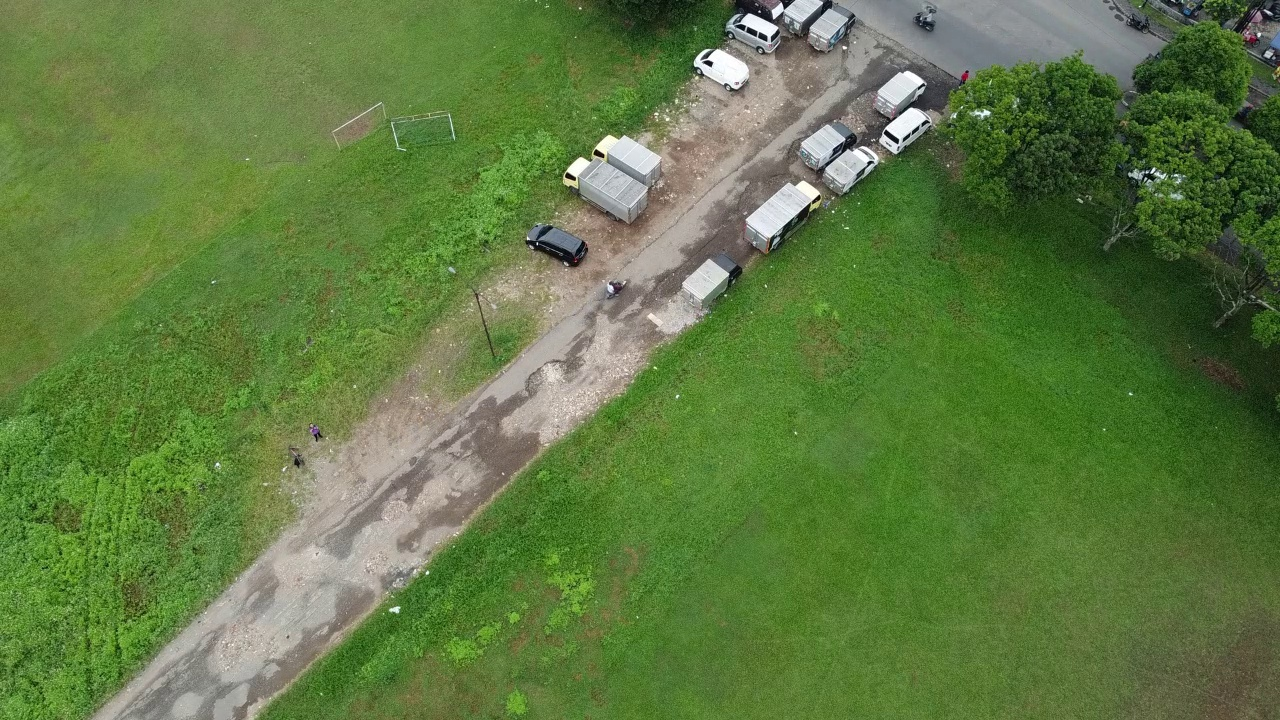mobil: (723, 10, 791, 58), (690, 43, 750, 97), (525, 221, 588, 268), (882, 105, 933, 157)
